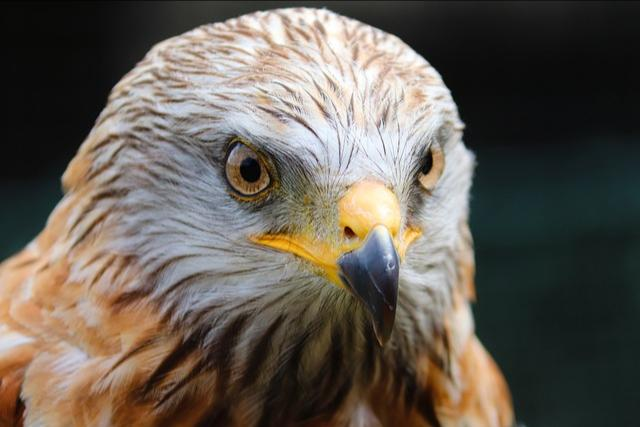Non_Gorille: (3, 5, 565, 427)
